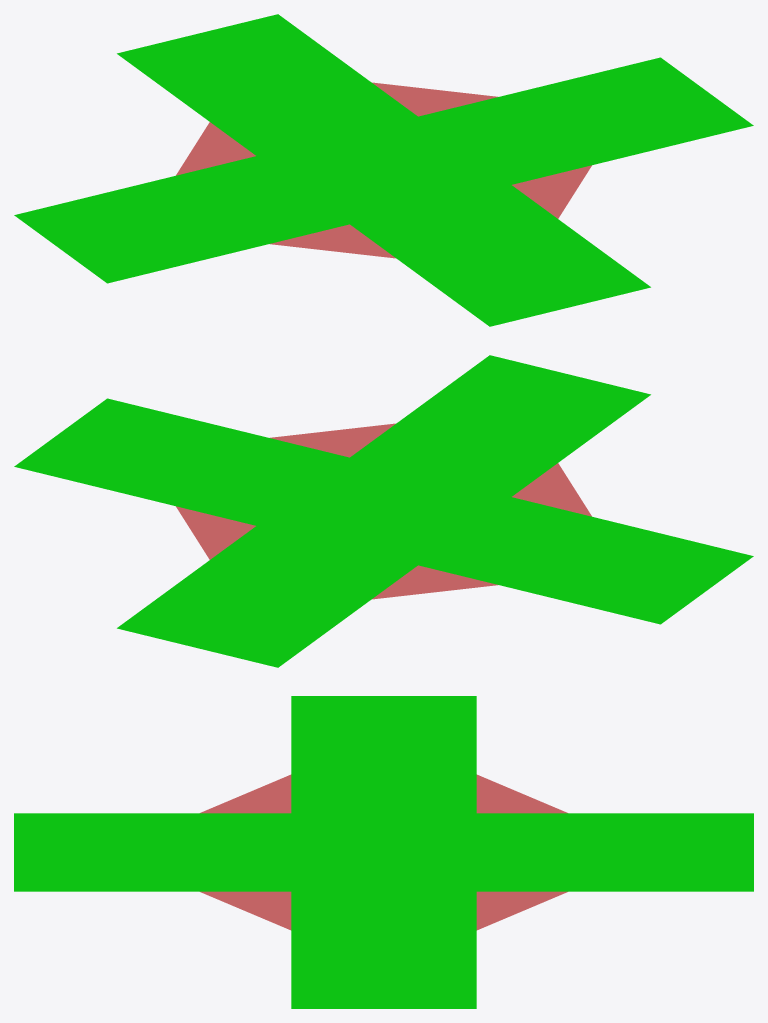
File: Item_life.fbx
3 renders of one model, top to bottom at view 1: azimuth 30°, elevation 25°; view 2: azimuth 150°, elevation 25°; view 3: azimuth 270°, elevation 25°, orthographic.
Parts seen in each view (by area): view 1: Plane; view 2: Plane; view 3: Plane.
Boxes of the visible parts, bbox=[...] form: Plane: bbox=[14, 14, 753, 326]; Plane: bbox=[14, 355, 753, 667]; Plane: bbox=[14, 696, 753, 1008].
Size of the model in its own units: 2 by 0 by 2.
